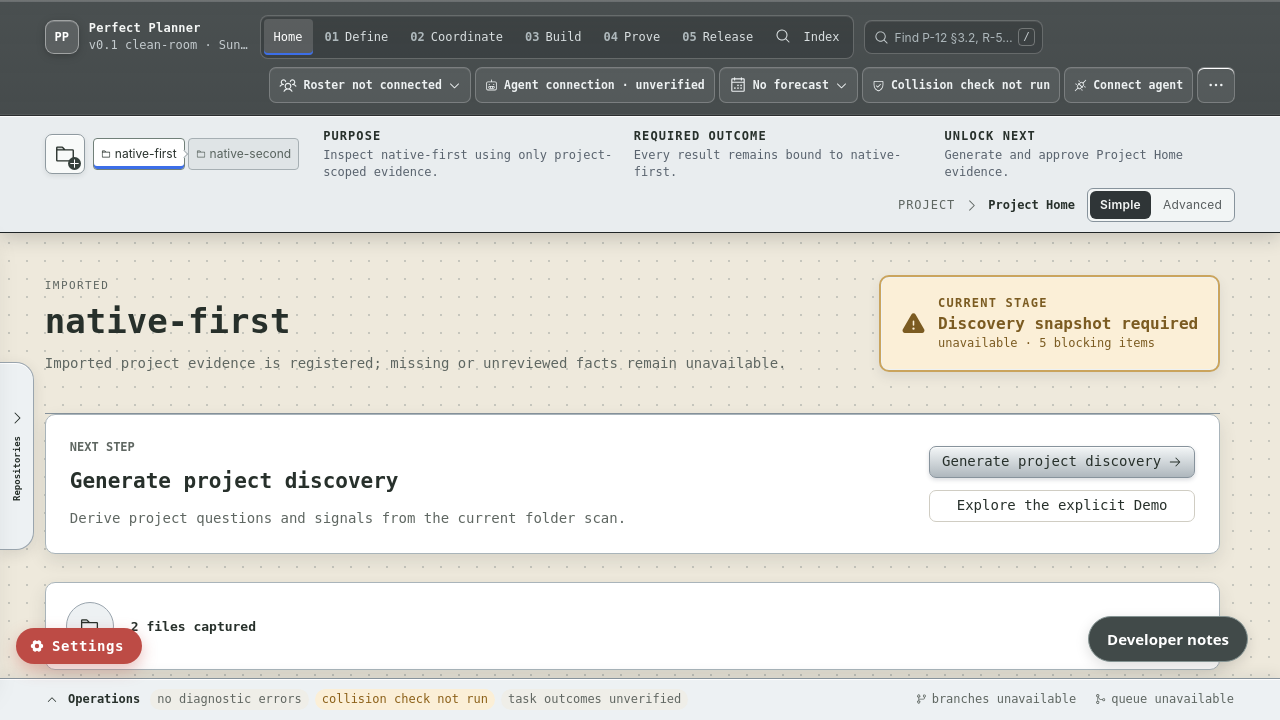
Test: browser reports unavailable and never starts a native check
Click the button named "More actions" at (1216, 85), box x1=1197 y1=67 x2=1235 y2=103
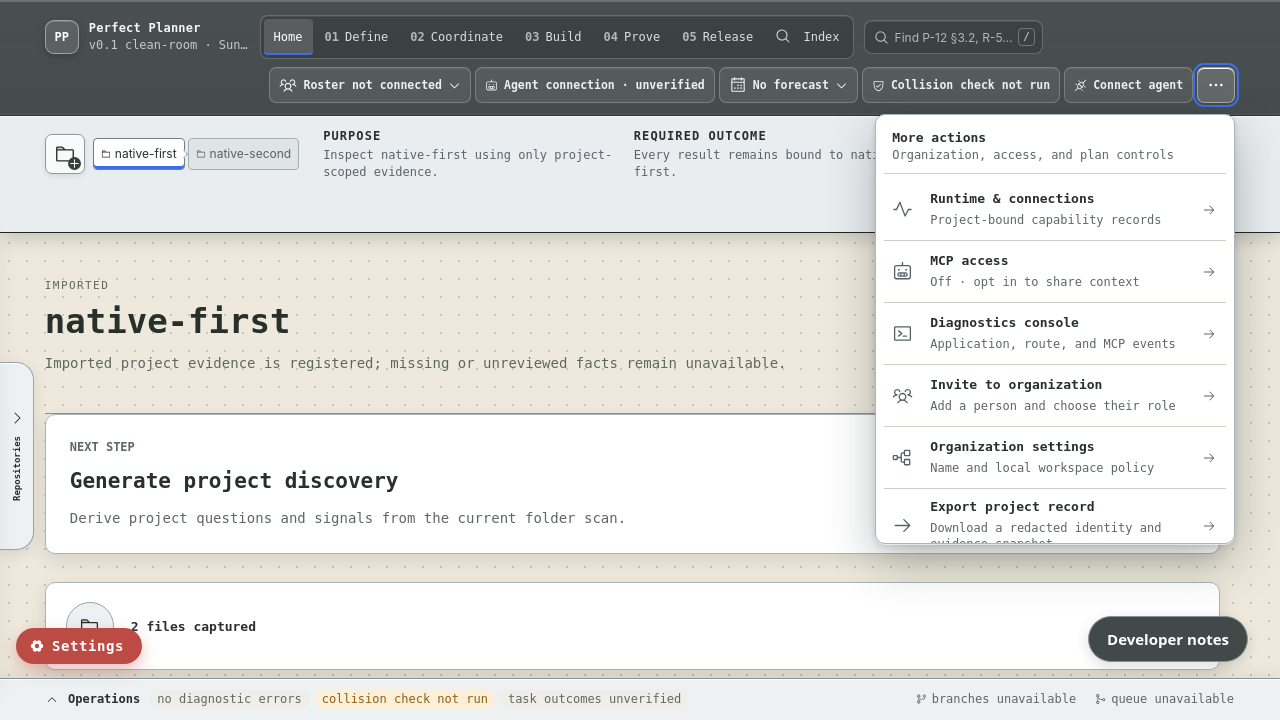
Click the button "Runtime & connections Project-bound capability records" at (1055, 210), box x1=884 y1=179 x2=1226 y2=241
(page scrolled)
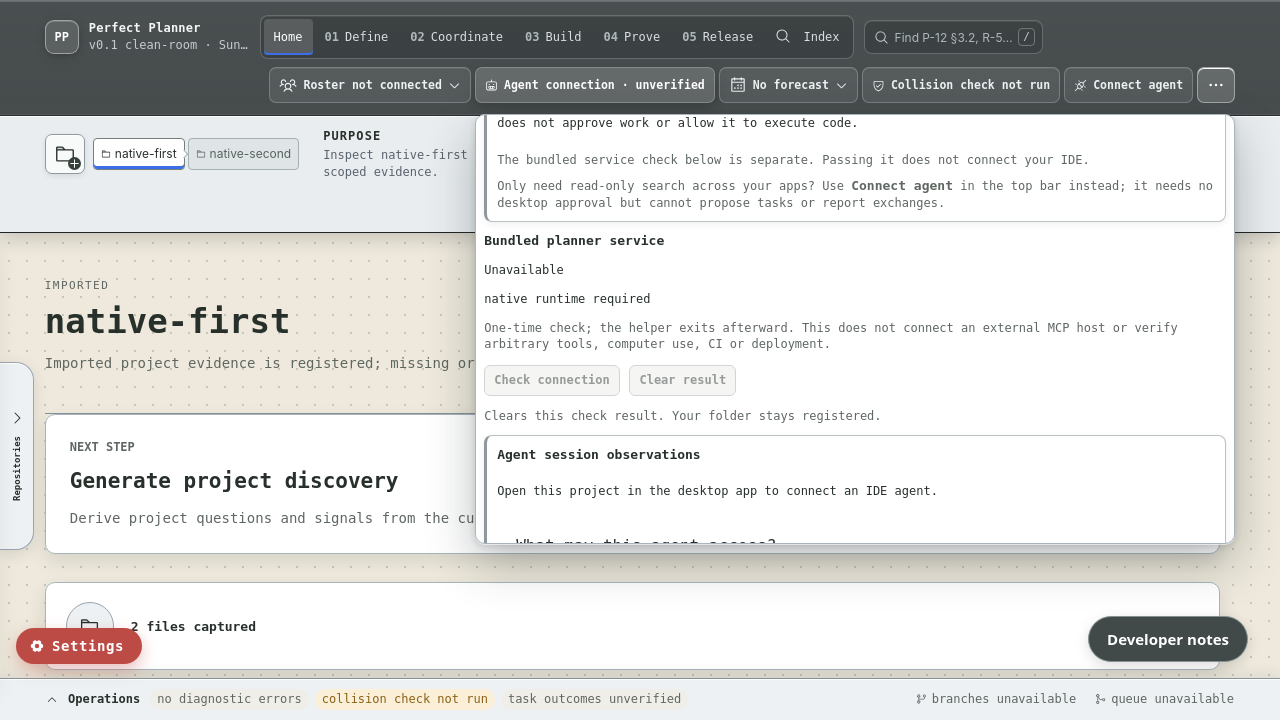
Now the button "Check connection" is disabled, box x1=484 y1=365 x2=620 y2=396
Now the element "Bundled planner service" shows "native runtime required", box x1=484 y1=292 x2=650 y2=306
